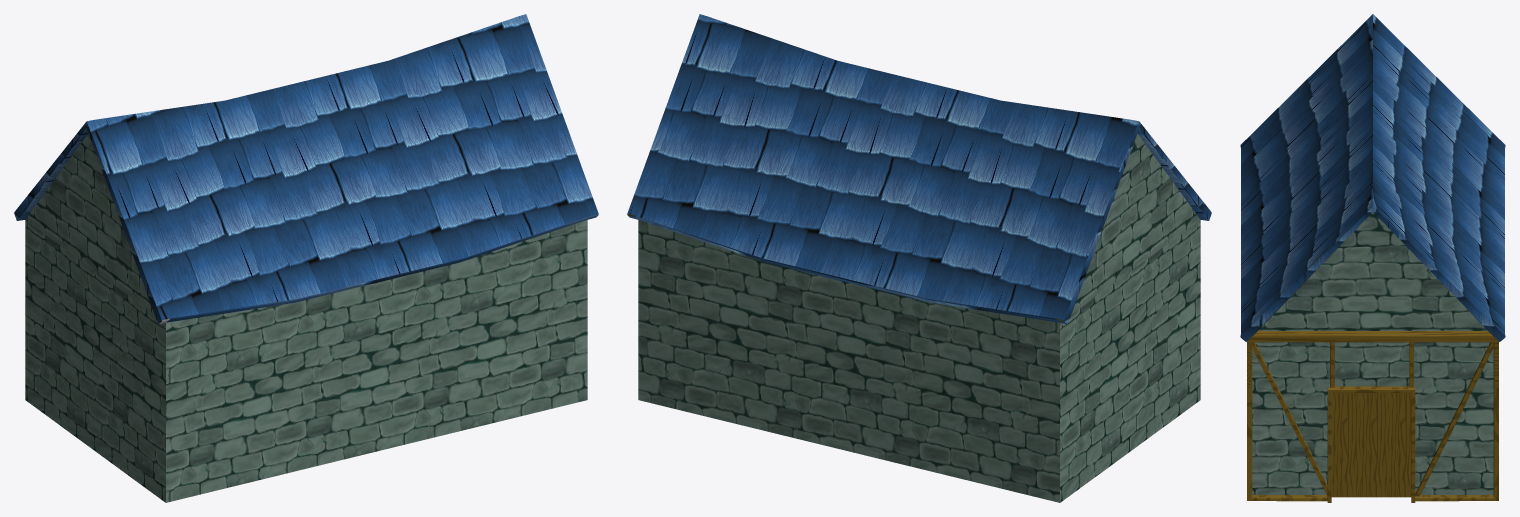
Rendered from shed.fbx.
3 views of the same model, side by side, from view 1: azimuth 30°, elevation 25°; view 2: azimuth 150°, elevation 25°; view 3: azimuth 270°, elevation 25° (orthographic). The views are drawn at different scales.
Visible parts, largest first — view 1: Shed; view 2: Shed; view 3: Shed.
Boxes of the visible parts, x1=… form: Shed: x1=14, y1=14, x2=598, y2=502; Shed: x1=627, y1=14, x2=1211, y2=502; Shed: x1=1240, y1=14, x2=1505, y2=502.
Size of the model in its own units: 1271 by 917 by 738.
